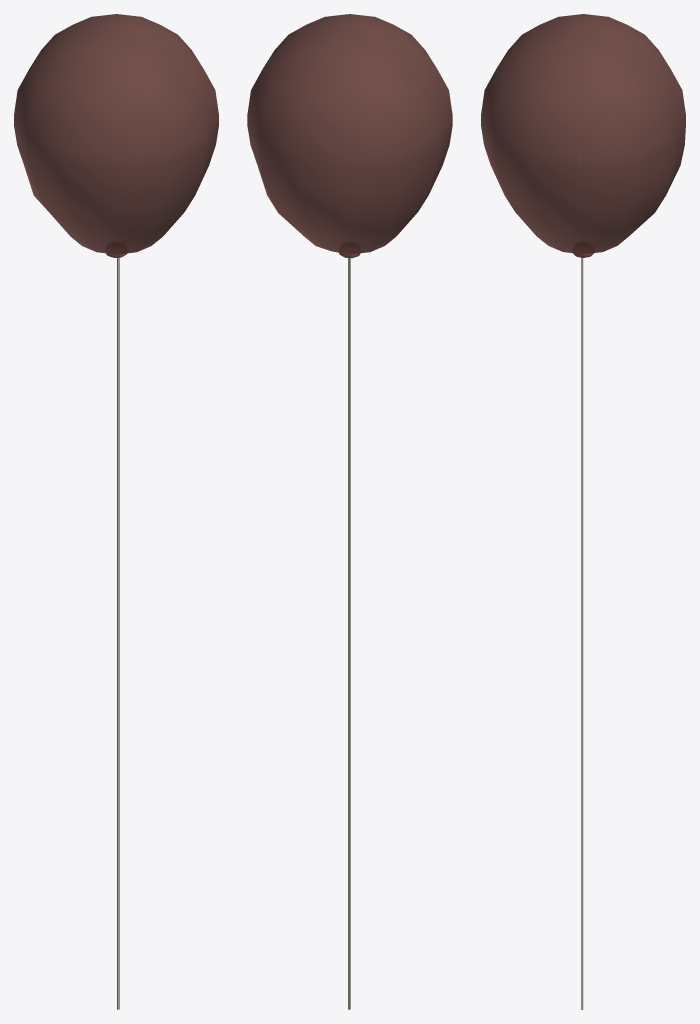
File: Balloon_Red.fbx
3 renders of one model, left to right at view 1: azimuth 30°, elevation 25°; view 2: azimuth 150°, elevation 25°; view 3: azimuth 270°, elevation 25°, orthographic.
Parts seen in each view (by area): view 1: Balloon_Red1; view 2: Balloon_Red1; view 3: Balloon_Red1.
Boxes of the visible parts, x1=… form: Balloon_Red1: x1=14, y1=14, x2=218, y2=1009; Balloon_Red1: x1=247, y1=14, x2=452, y2=1009; Balloon_Red1: x1=481, y1=14, x2=685, y2=1009.
Bounding box in the file's own units: 49.42 × 263 × 49.42.
